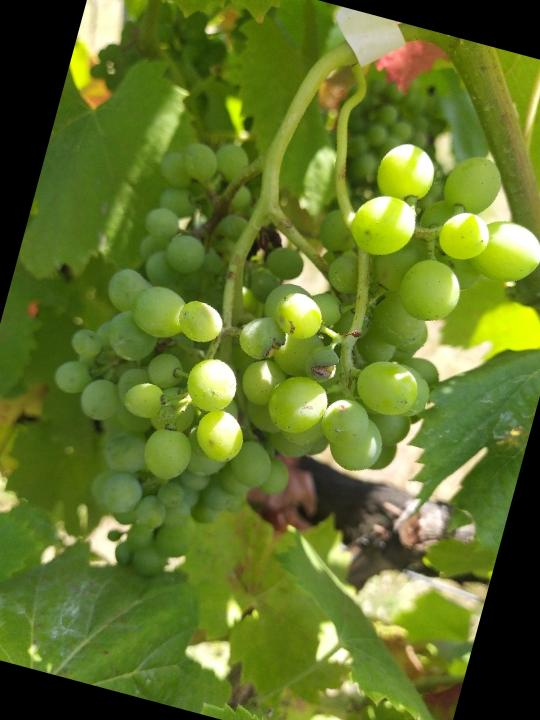grape: (7, 63, 540, 657)
